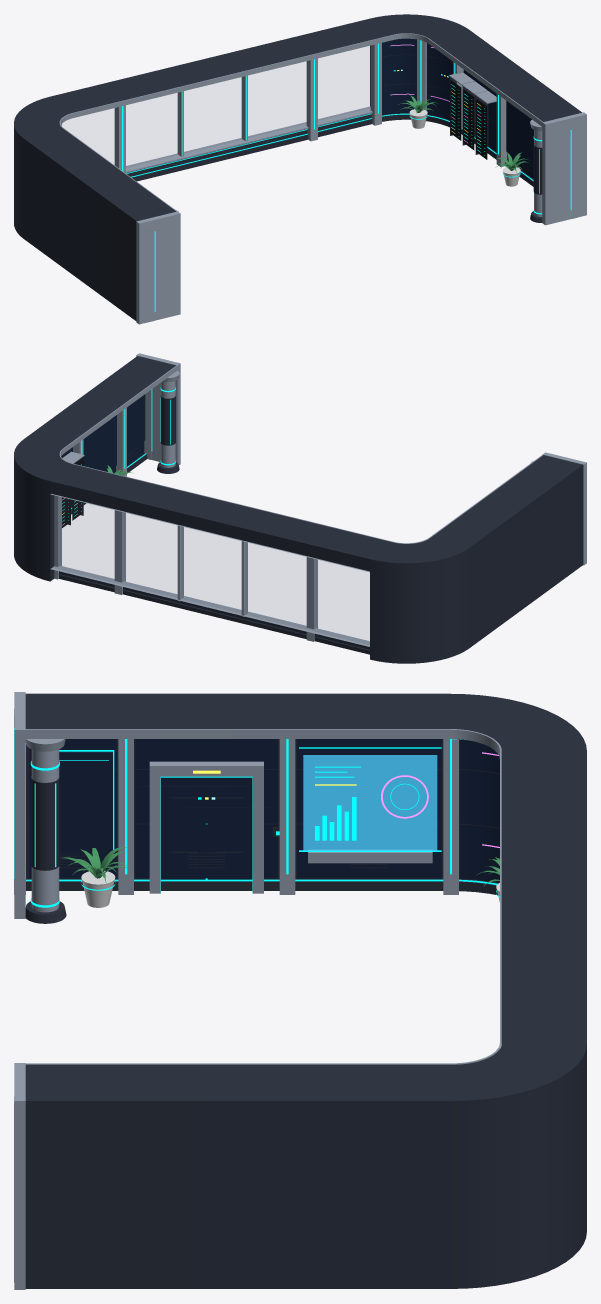
The model's file is shell.glb.
The picture shows the model from 3 angles, top to bottom: view 1: azimuth 30°, elevation 25°; view 2: azimuth 150°, elevation 25°; view 3: azimuth 270°, elevation 25°; orthographic projection. The views are drawn at different scales.
Visible parts, largest first — view 1: Walls, Glass, Racks, Plants, Pillars; view 2: Walls, Glass, Pillars, Racks; view 3: Walls, Holo, Pillars, Door, Plants.
Part boxes in pixels (x1,y1,x2,y2): Walls: (14, 14, 586, 324); Glass: (62, 46, 369, 166); Racks: (449, 72, 496, 159); Plants: (398, 95, 529, 186); Pillars: (176, 119, 542, 222); Walls: (14, 353, 586, 663); Glass: (53, 496, 369, 644); Pillars: (157, 370, 533, 473); Racks: (62, 451, 84, 527); Walls: (14, 692, 586, 1289); Holo: (299, 747, 441, 863); Pillars: (25, 739, 66, 923); Door: (149, 761, 279, 893); Plants: (60, 847, 499, 907).
Size of the model in its own units: 21 by 4.52 by 12.43.
